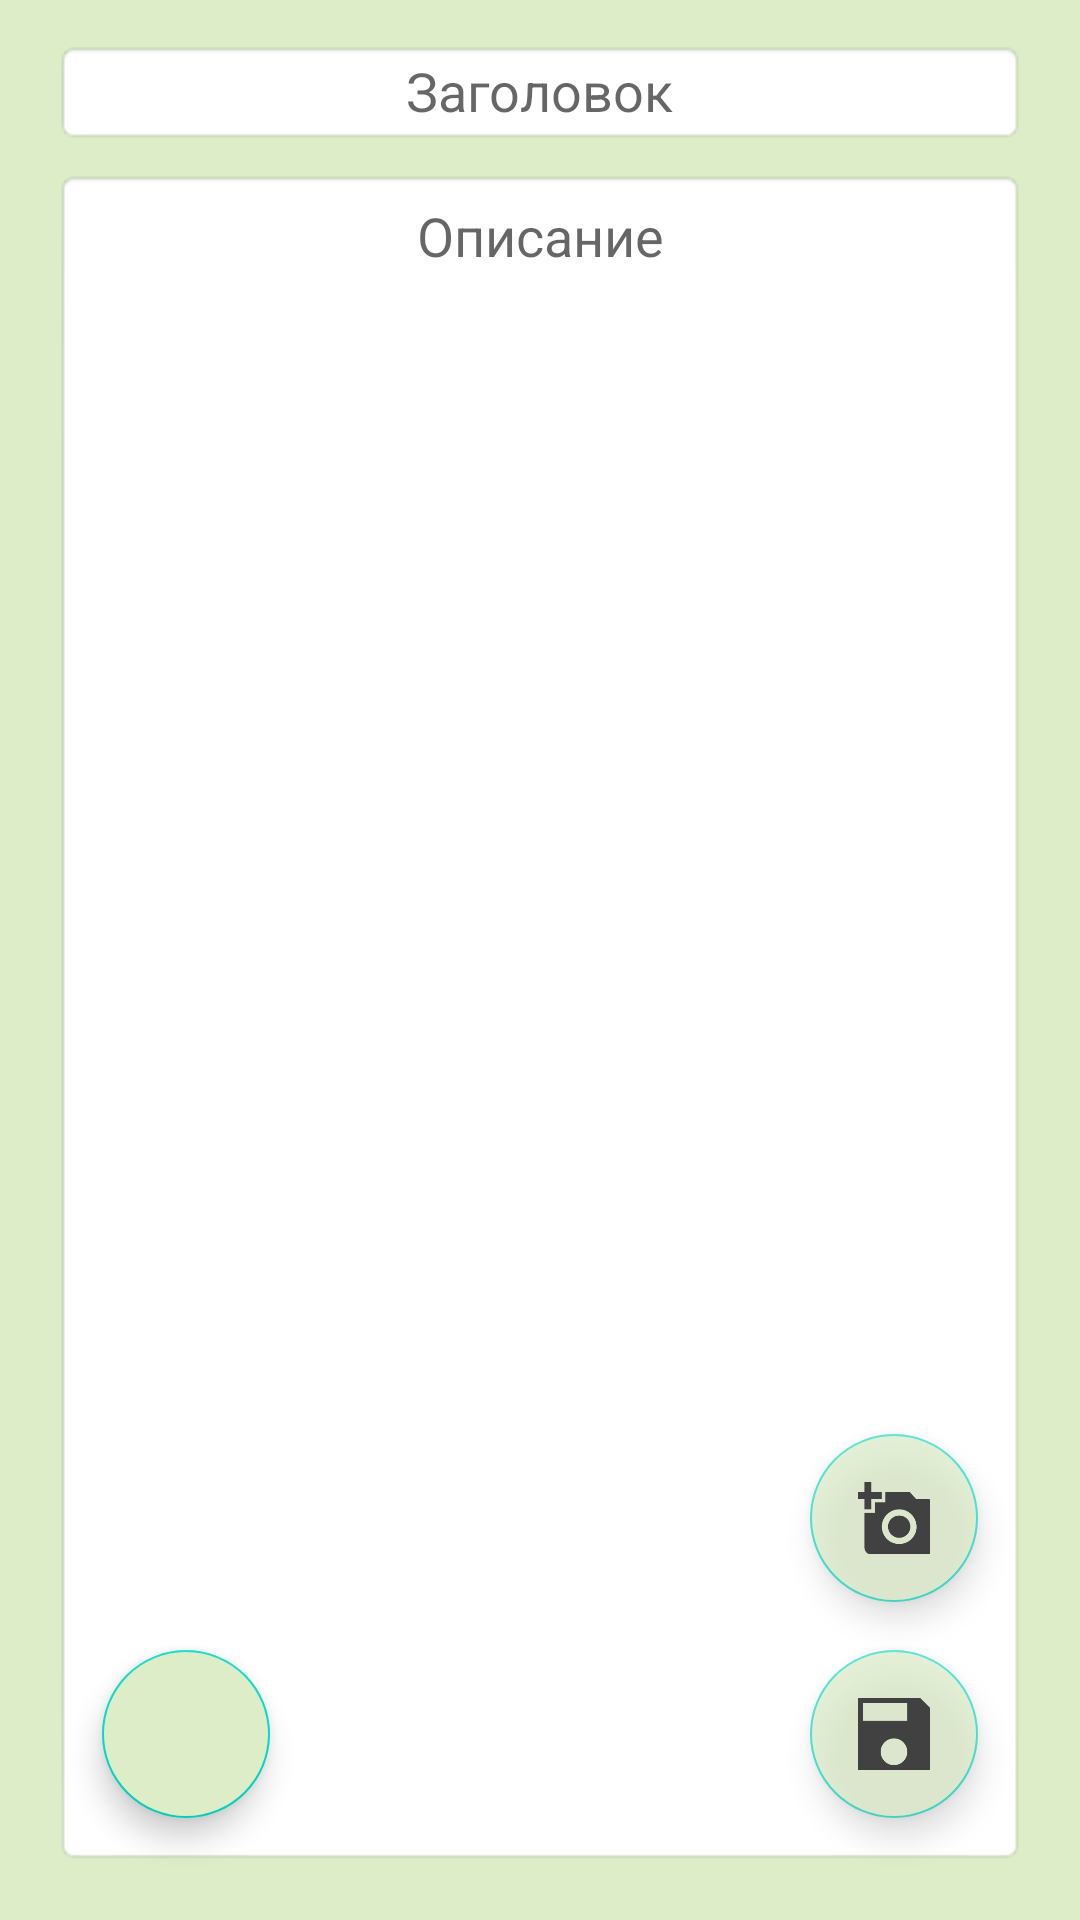

Named icons in this screenshot (1080px×1920px) and their bounding boxes, (x1, y1, x2, y2):
add: (810, 1434, 978, 1602)
savenote: (810, 1650, 978, 1818)
